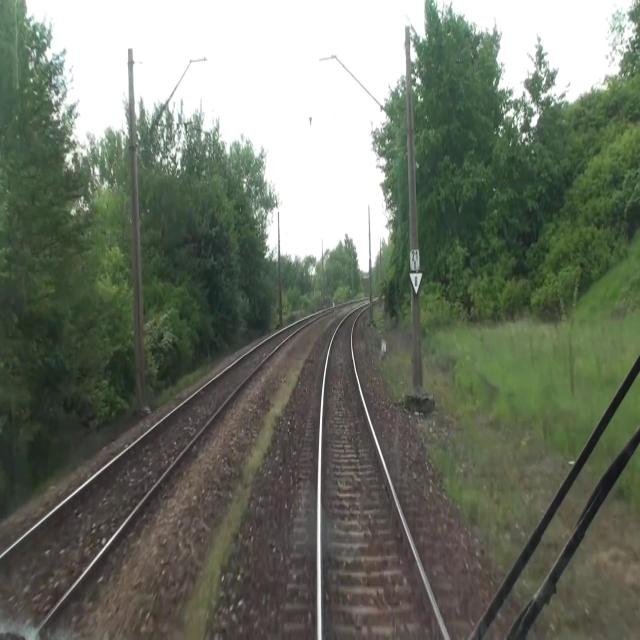rail-track: (0, 318, 310, 639), (322, 308, 436, 639)
